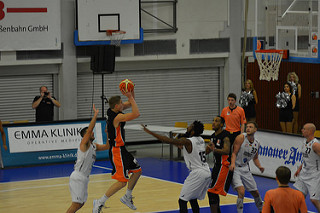basketball: (118, 78, 135, 95)
